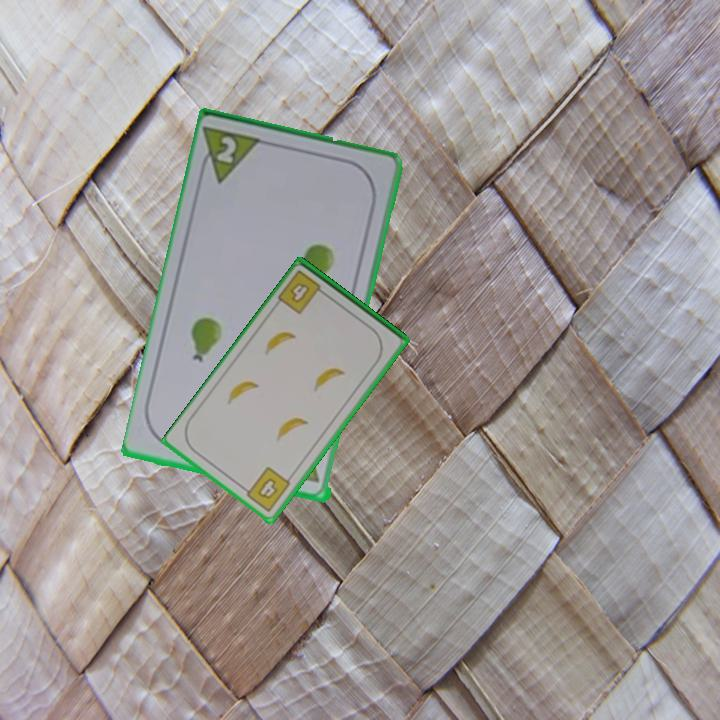2p: (196, 123, 268, 187)
4b: (239, 463, 294, 515), (274, 267, 330, 317)
